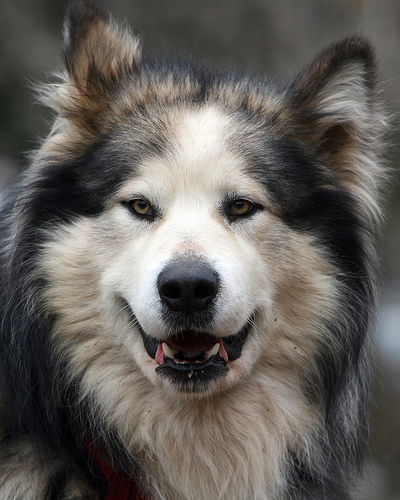dog: (0, 0, 395, 498)
